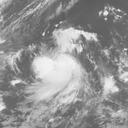cyclone: (33, 53, 82, 96)
